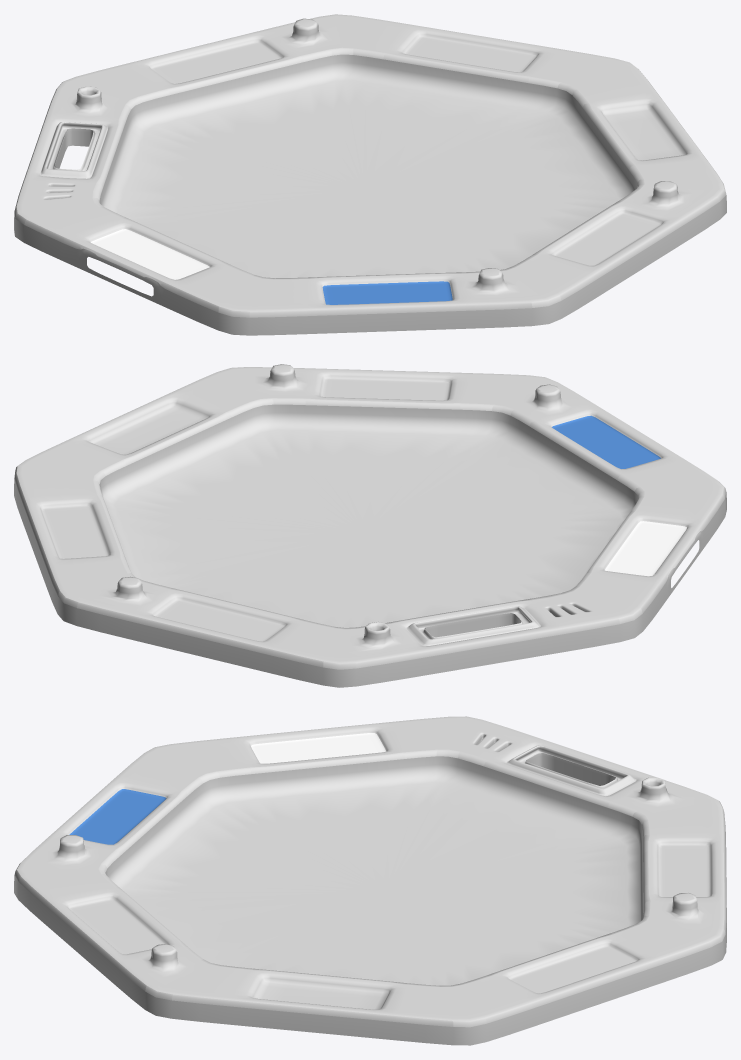
Rendered from PORTAL2.glb.
The picture shows the model from 3 angles, top to bottom: view 1: azimuth 30°, elevation 25°; view 2: azimuth 150°, elevation 25°; view 3: azimuth 270°, elevation 25°; orthographic projection.
Visible parts, largest first — view 1: der ding; view 2: der ding; view 3: der ding.
Part boxes in pixels (left/top/right/bottom): der ding: left=14, top=14, right=726, bottom=335; der ding: left=14, top=364, right=726, bottom=687; der ding: left=14, top=716, right=726, bottom=1045.
Size of the model in its own units: 1.92 by 0.1131 by 1.89.
Materials: 4 (1 with a texture image).
